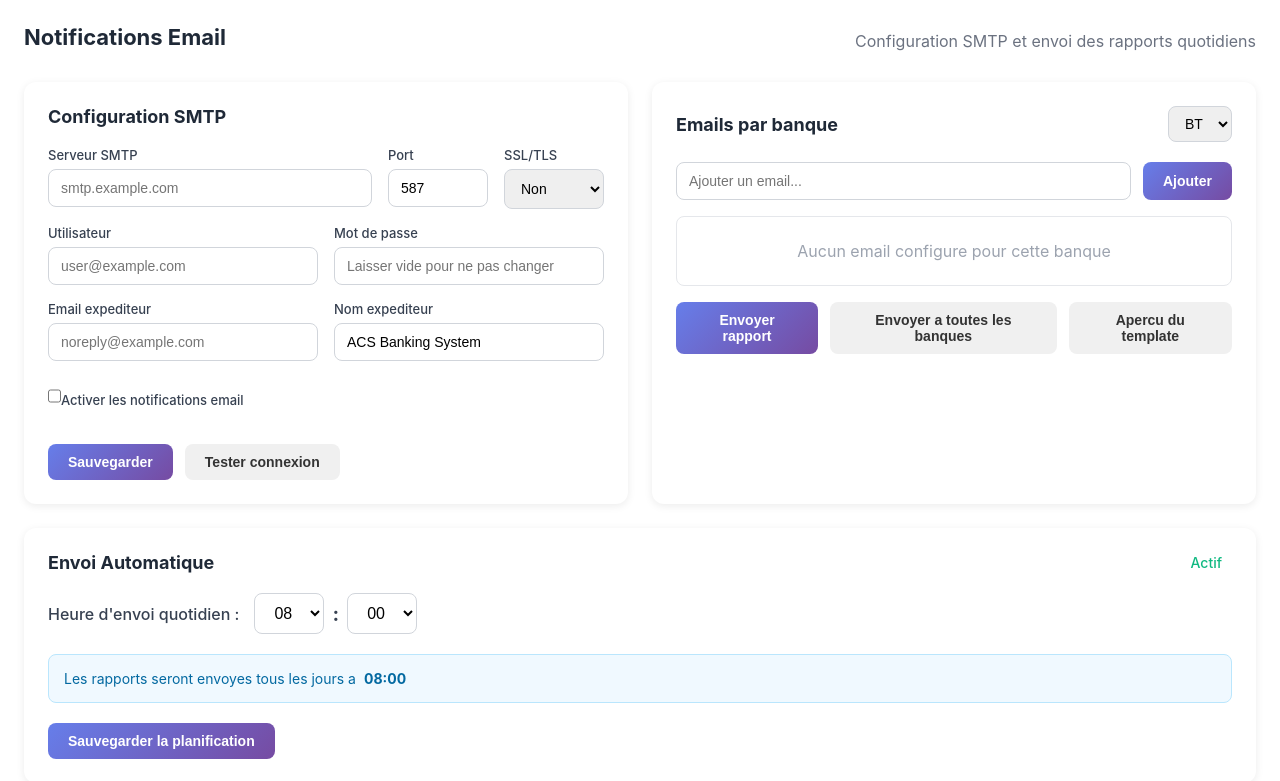
Notifications › tests SMTP connection and shows result
expect the heading "Notifications Email" is shown: met, box [24,24,226,50]
Step 1. Click the button "Tester connexion" → (262, 462), box [185,444,340,480]
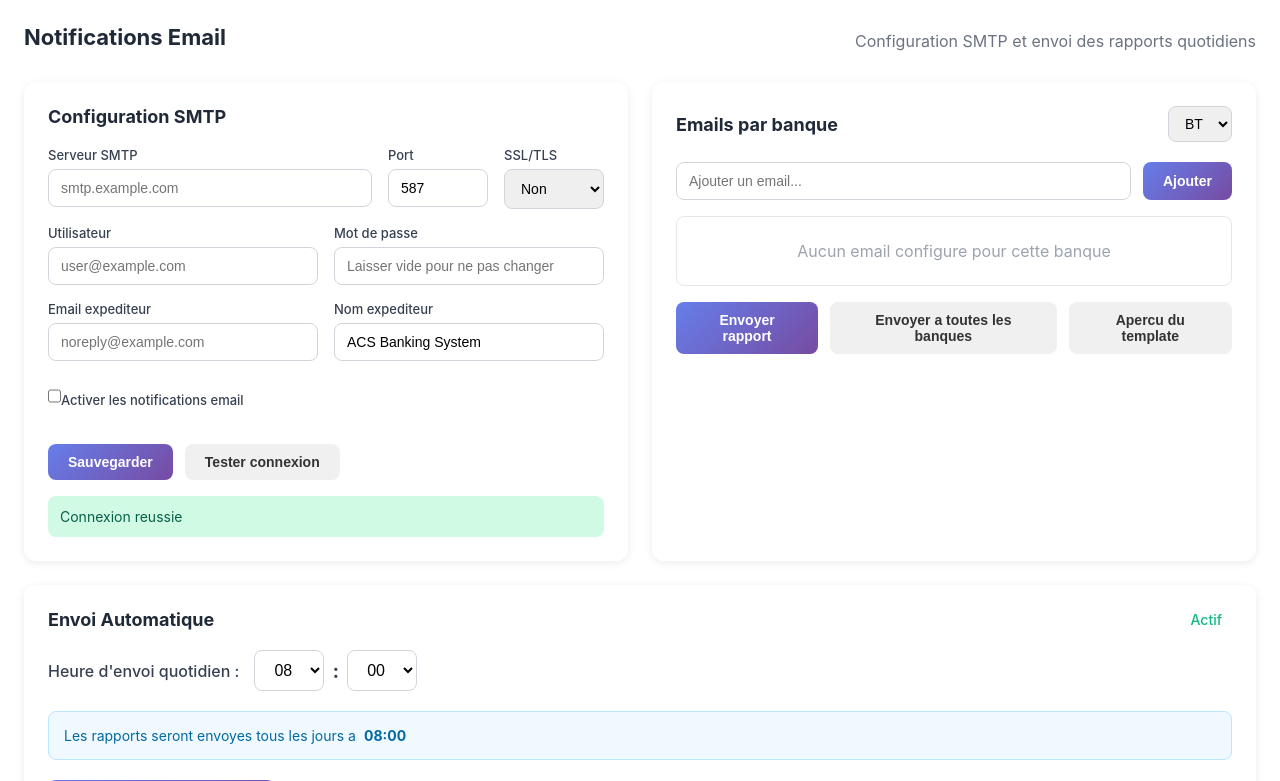
expect the text "Connexion reussie" is shown: met, box [48,496,604,537]
